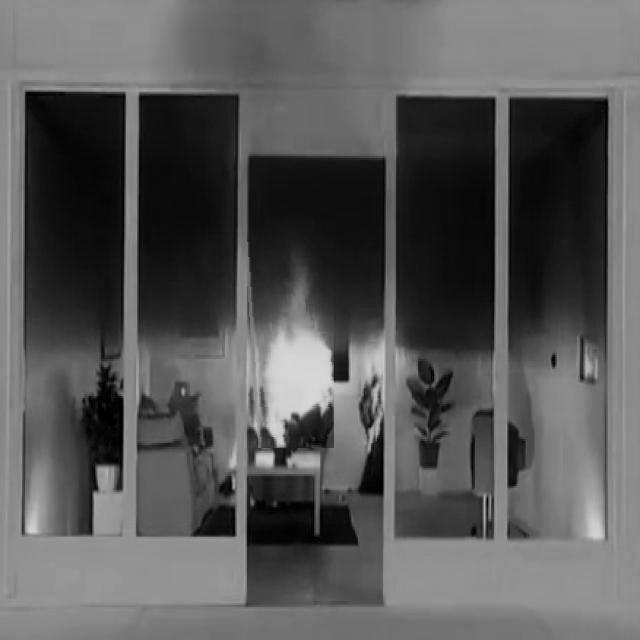smoke: (258, 245, 334, 448)
